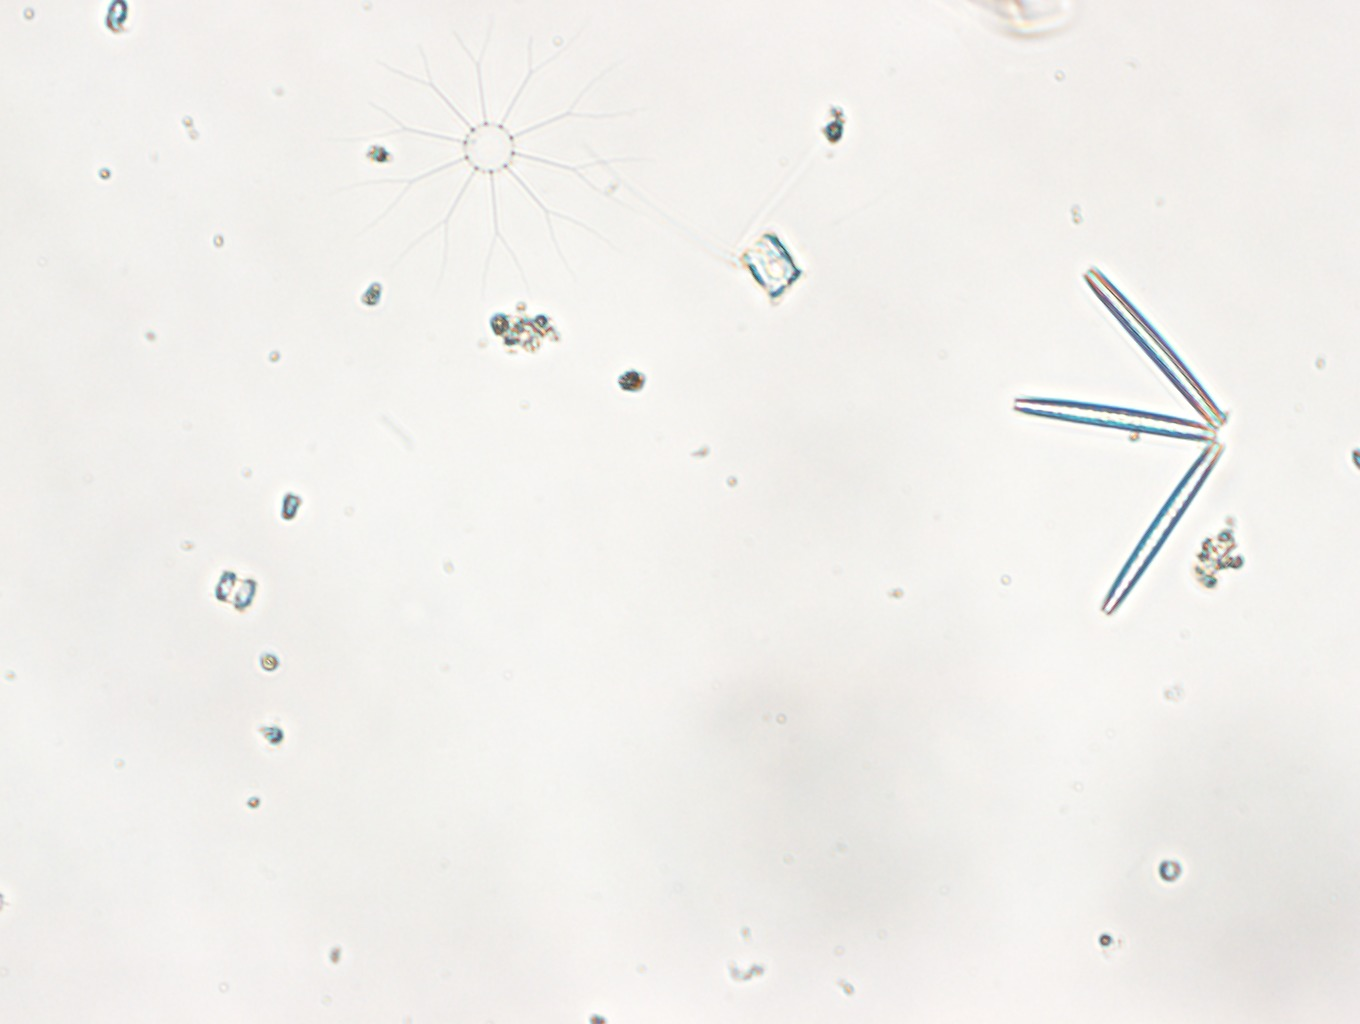bacteriastrum: (366, 29, 635, 290)
thalassionema frauenfeldii: (1005, 250, 1239, 621)
